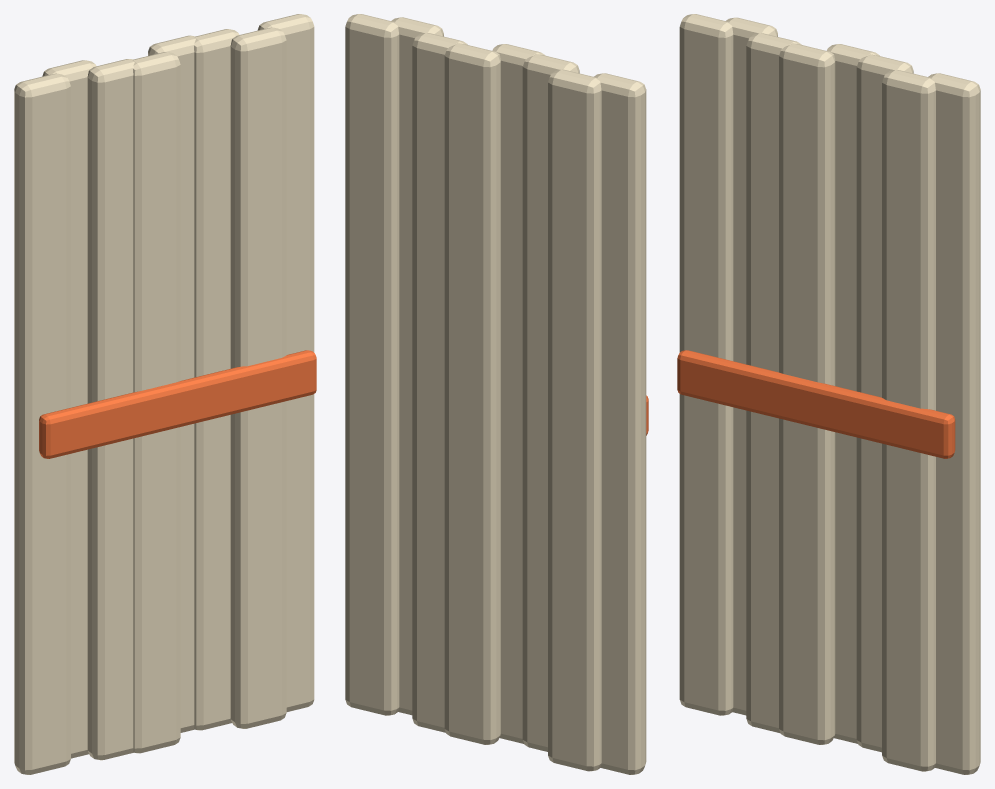
The model's file is bedroom_curtain.glb.
The picture shows the model from 3 angles, left to right: view 1: azimuth 30°, elevation 25°; view 2: azimuth 150°, elevation 25°; view 3: azimuth 330°, elevation 25°; orthographic projection.
Visible parts, largest first — view 1: bedroom_curtain_Mesh; view 2: bedroom_curtain_Mesh; view 3: bedroom_curtain_Mesh.
Part boxes in pixels (x1,y1,x2,y2): bedroom_curtain_Mesh: (14,14,316,774); bedroom_curtain_Mesh: (345,14,648,774); bedroom_curtain_Mesh: (677,14,980,774).
Size of the model in its own units: 0.871 by 1.95 by 0.1616.
